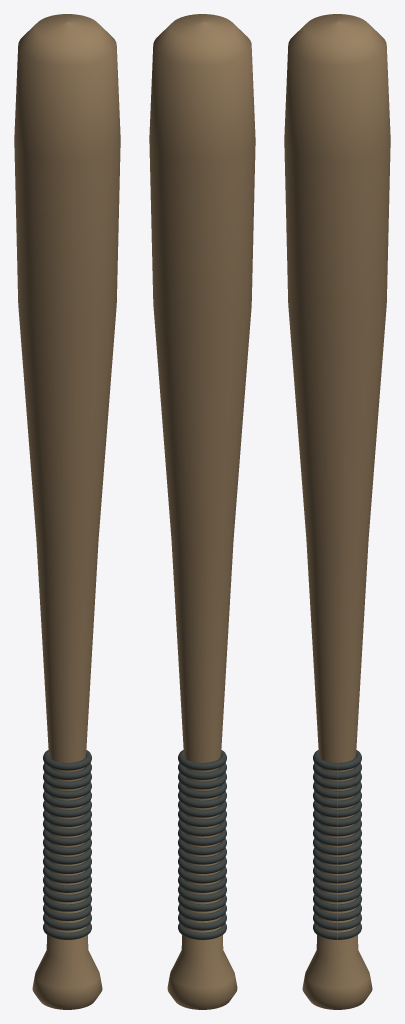
The model's file is bat.glb.
3 renders of one model, left to right at view 1: azimuth 90°, elevation 25°; view 2: azimuth 150°, elevation 25°; view 3: azimuth 270°, elevation 25°, orthographic.
Parts seen in each view (by area): view 1: Baseball bat, Grip wrap.018, Grip wrap.016, Grip wrap.011, Grip wrap.014, Grip wrap.006, Grip wrap.013, Grip wrap.009, Grip wrap.008, Grip wrap.010, Grip wrap.015, Grip wrap.012 (+8 smaller); view 2: Baseball bat, Grip wrap.018, Grip wrap.011, Grip wrap.016, Grip wrap.013, Grip wrap.009, Grip wrap.006, Grip wrap.014, Grip wrap.010, Grip wrap.015, Grip wrap.008, Grip wrap.017 (+8 smaller); view 3: Baseball bat, Grip wrap.018, Grip wrap.016, Grip wrap.011, Grip wrap.014, Grip wrap.006, Grip wrap.013, Grip wrap.009, Grip wrap.008, Grip wrap.010, Grip wrap.015, Grip wrap.012 (+8 smaller).
Boxes of the visible parts, x1,y1,x2,y2 form: Baseball bat: (14, 14, 120, 1009); Grip wrap.018: (43, 750, 91, 770); Grip wrap.016: (43, 772, 91, 789); Grip wrap.011: (43, 819, 91, 836); Grip wrap.014: (43, 791, 91, 808); Grip wrap.006: (43, 866, 91, 883); Grip wrap.013: (43, 800, 91, 817); Grip wrap.009: (43, 838, 91, 855); Grip wrap.008: (43, 848, 91, 864); Grip wrap.010: (43, 829, 91, 845); Grip wrap.015: (43, 782, 91, 798); Grip wrap.012: (43, 810, 91, 826); Baseball bat: (149, 14, 255, 1009); Grip wrap.018: (178, 750, 226, 770); Grip wrap.011: (178, 819, 226, 836); Grip wrap.016: (178, 772, 226, 789); Grip wrap.013: (178, 800, 226, 817); Grip wrap.009: (178, 838, 226, 855); Grip wrap.006: (178, 866, 226, 883); Grip wrap.014: (178, 791, 226, 808); Grip wrap.010: (178, 829, 226, 845); Grip wrap.015: (178, 782, 226, 798); Grip wrap.008: (178, 848, 226, 864); Grip wrap.017: (178, 763, 226, 779); Baseball bat: (284, 14, 390, 1009); Grip wrap.018: (313, 750, 361, 770); Grip wrap.016: (313, 772, 361, 789); Grip wrap.011: (313, 819, 361, 836); Grip wrap.014: (313, 791, 361, 808); Grip wrap.006: (313, 866, 361, 883); Grip wrap.013: (313, 800, 361, 817); Grip wrap.009: (313, 838, 361, 855); Grip wrap.008: (313, 848, 361, 864); Grip wrap.010: (313, 829, 361, 845); Grip wrap.015: (313, 782, 361, 798); Grip wrap.012: (313, 810, 361, 826).
Size of the model in its own units: 0.082 by 0.83 by 0.082.
